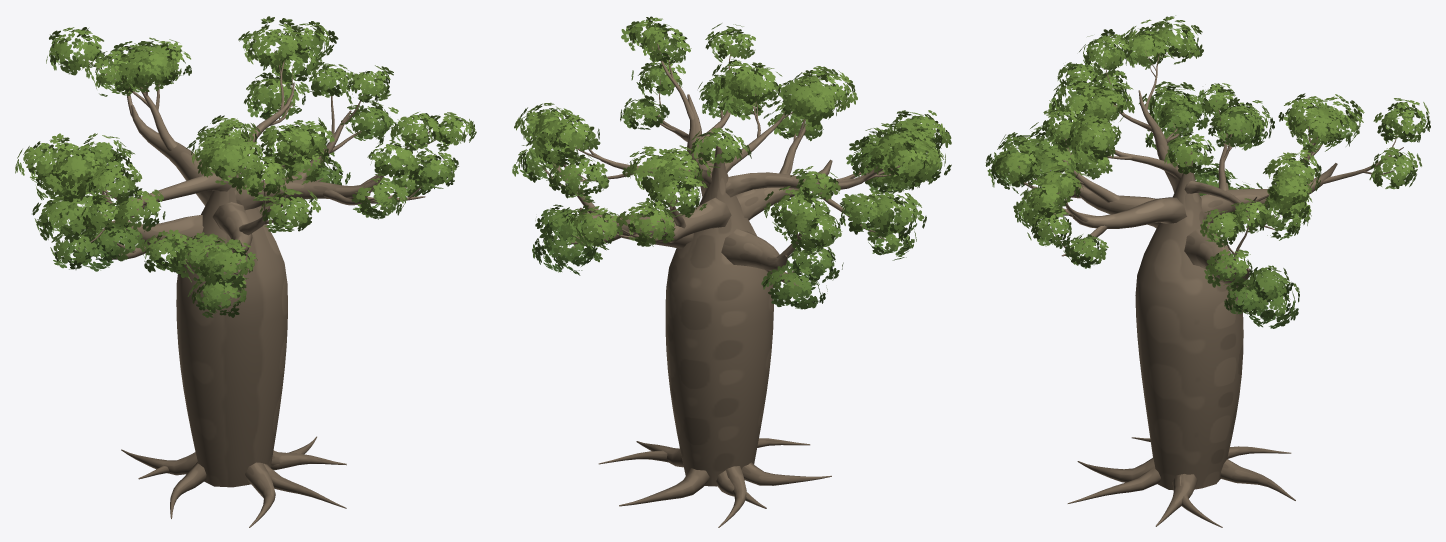
The model's file is tree.gltf.
3 renders of one model, left to right at view 1: azimuth 30°, elevation 25°; view 2: azimuth 150°, elevation 25°; view 3: azimuth 270°, elevation 25°, orthographic. The views are drawn at different scales.
Parts seen in each view (by area): view 1: Tree_LOD0; view 2: Tree_LOD0; view 3: Tree_LOD0.
Part boxes in pixels (x1,y1,x2,y2): Tree_LOD0: (15, 16, 476, 527); Tree_LOD0: (512, 16, 951, 527); Tree_LOD0: (985, 15, 1430, 527).
Bounding box in the file's own units: 25.52 × 23.35 × 25.15.
2 materials, 2 textured.
